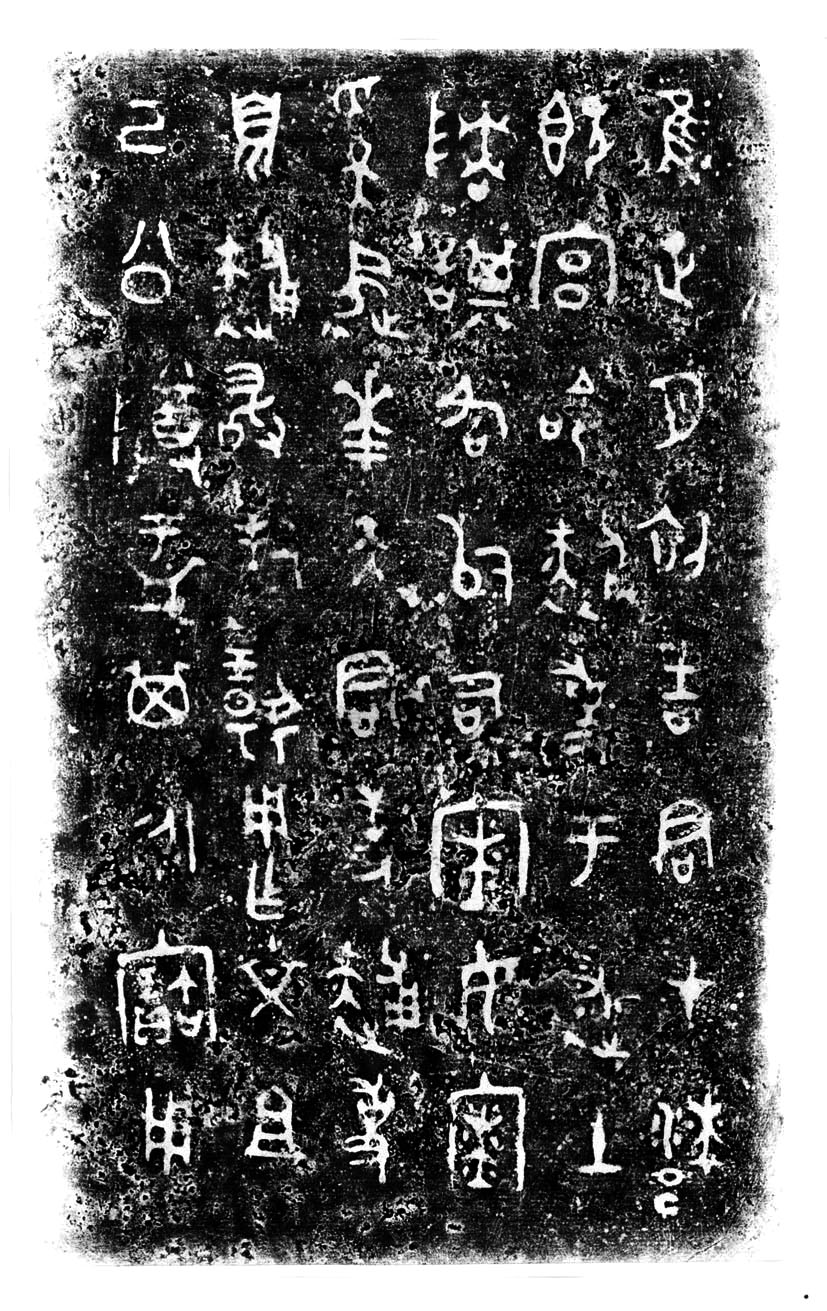char: (640, 1066, 813, 1230), (427, 1060, 575, 1209), (197, 620, 332, 769), (524, 485, 657, 636), (414, 755, 546, 907), (181, 201, 319, 342), (100, 928, 255, 1053), (325, 210, 440, 356), (106, 510, 225, 649), (417, 490, 540, 615), (551, 1090, 654, 1239), (101, 353, 221, 480), (409, 226, 529, 347), (511, 71, 648, 174), (305, 945, 435, 1053), (211, 52, 317, 182), (321, 50, 409, 204), (646, 620, 752, 747), (525, 352, 648, 461), (294, 363, 421, 468), (443, 644, 556, 755), (327, 776, 424, 898), (319, 641, 425, 752), (205, 485, 317, 590), (543, 652, 637, 777), (402, 94, 524, 188), (657, 776, 767, 880), (635, 66, 757, 158), (443, 928, 546, 1036), (544, 963, 646, 1069), (321, 479, 409, 601), (638, 206, 738, 306), (116, 785, 203, 893), (116, 1096, 230, 1176), (537, 225, 629, 323), (644, 493, 752, 576), (206, 364, 302, 456), (648, 345, 743, 434), (103, 201, 181, 309), (417, 368, 516, 452), (327, 1071, 409, 1171), (557, 803, 640, 899), (111, 664, 200, 750), (659, 952, 752, 1033), (87, 75, 179, 156), (246, 852, 321, 942), (241, 1088, 313, 1180), (232, 963, 311, 1038), (232, 779, 314, 845)
